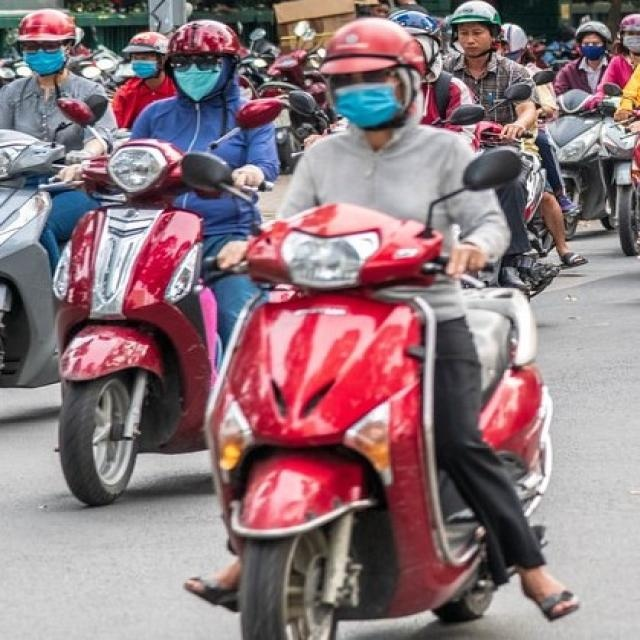Motorcycle: (206, 225, 557, 640), (40, 92, 283, 507), (0, 88, 108, 420), (542, 88, 615, 254)
